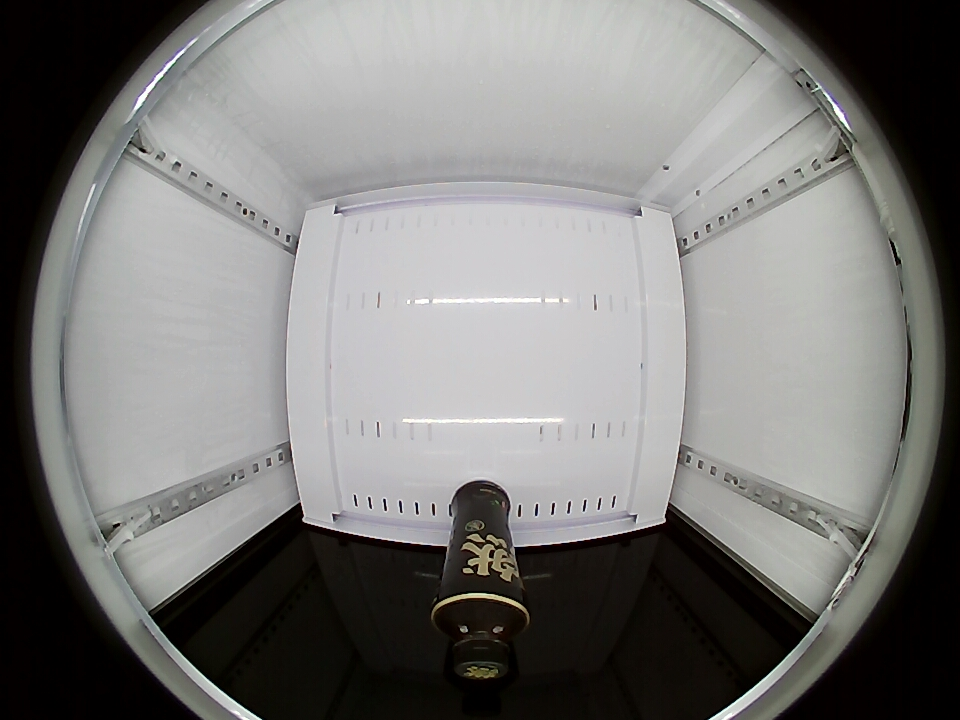rancha-1: (431, 587, 530, 682)
